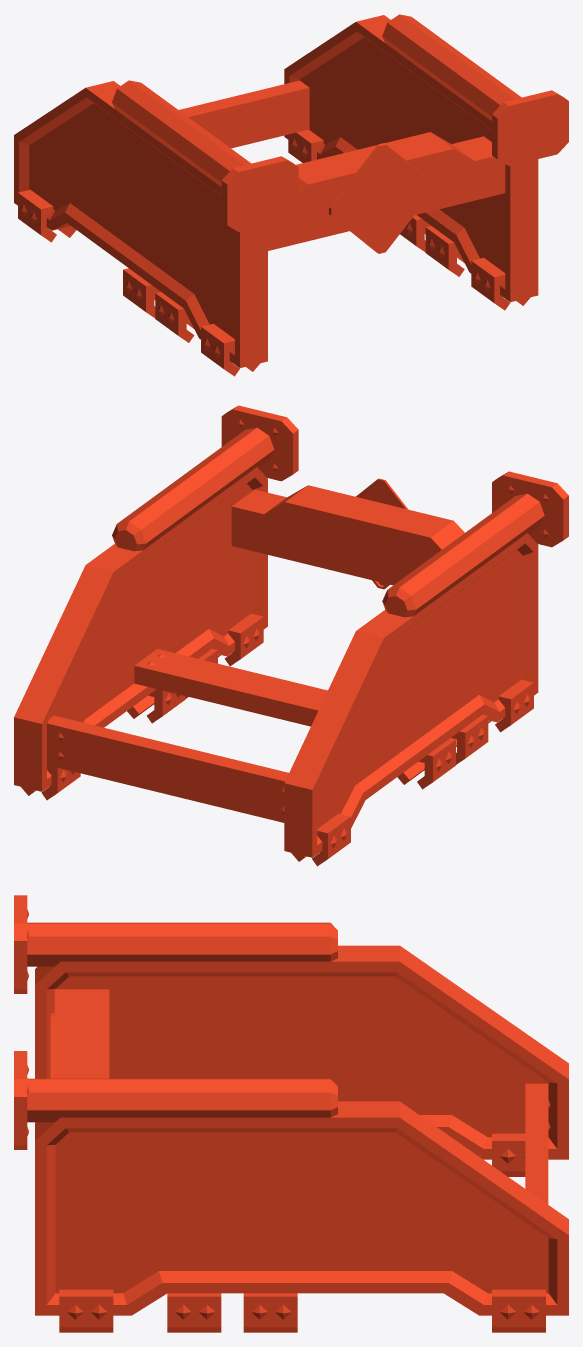
File: SM_Rails_Buffer_Stop_City.fbx
3 renders of one model, top to bottom at view 1: azimuth 30°, elevation 25°; view 2: azimuth 150°, elevation 25°; view 3: azimuth 270°, elevation 25°, orthographic. The views are drawn at different scales.
Visible parts, largest first — view 1: SM_Rails_Buffer_Stop_City; view 2: SM_Rails_Buffer_Stop_City; view 3: SM_Rails_Buffer_Stop_City.
Boxes of the visible parts, <box> form: SM_Rails_Buffer_Stop_City: <box>14,14,568,376</box>; SM_Rails_Buffer_Stop_City: <box>14,405,568,866</box>; SM_Rails_Buffer_Stop_City: <box>14,895,568,1332</box>.
Size of the model in its own units: 1.97 by 1.22 by 2.34.
